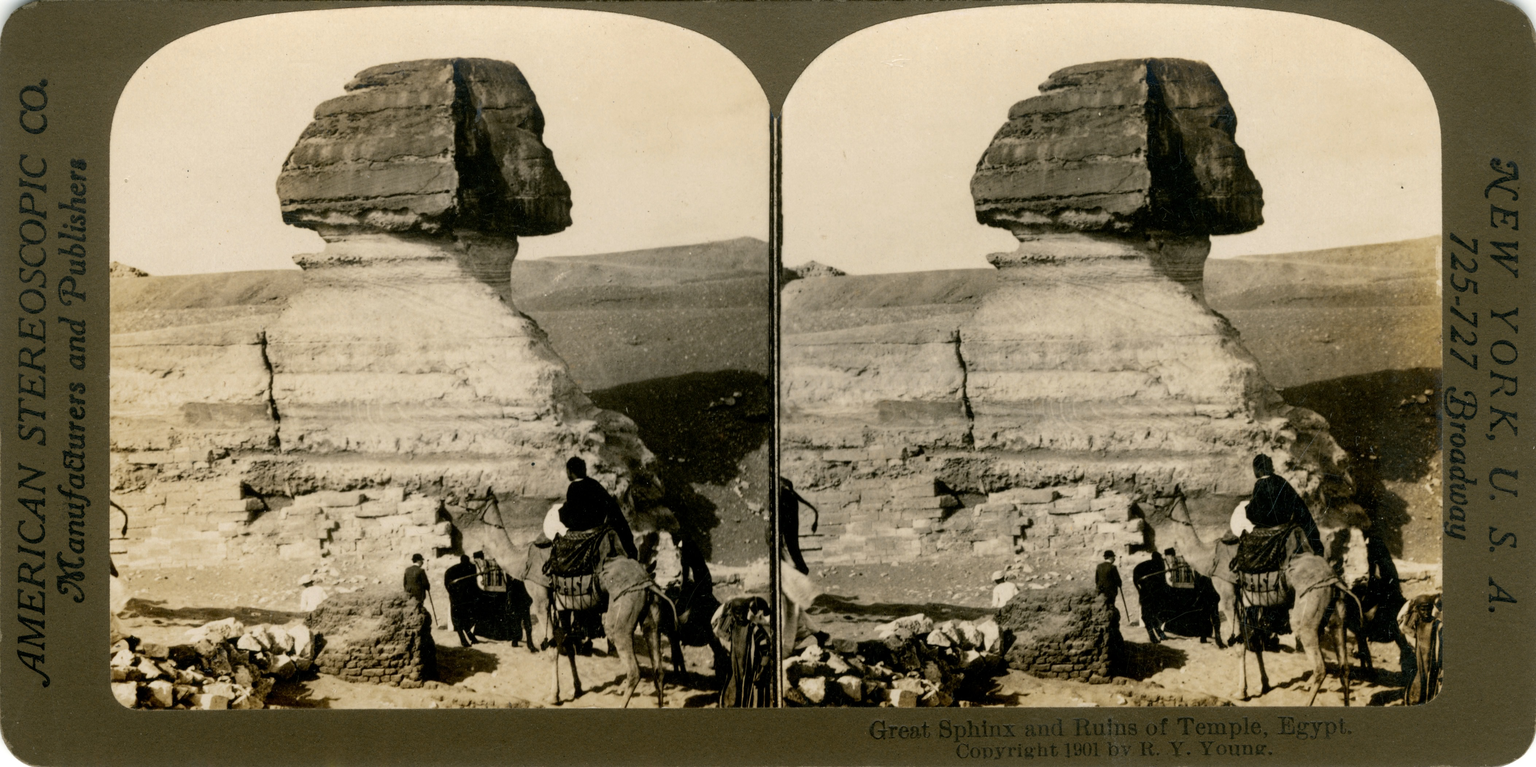half_image: (110, 6, 774, 711), (783, 3, 1444, 708)
